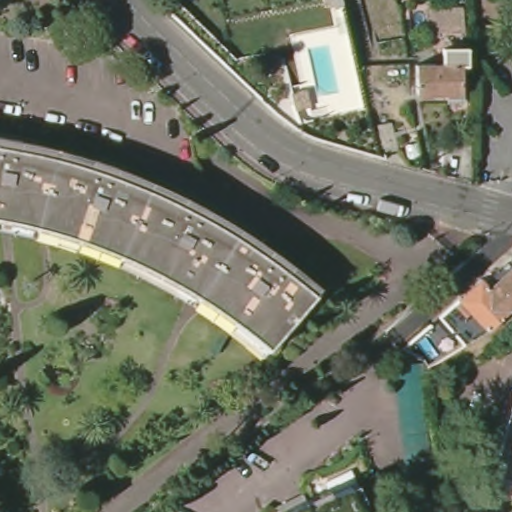pool: (308, 44, 342, 97), (415, 333, 435, 363), (409, 8, 429, 29)
